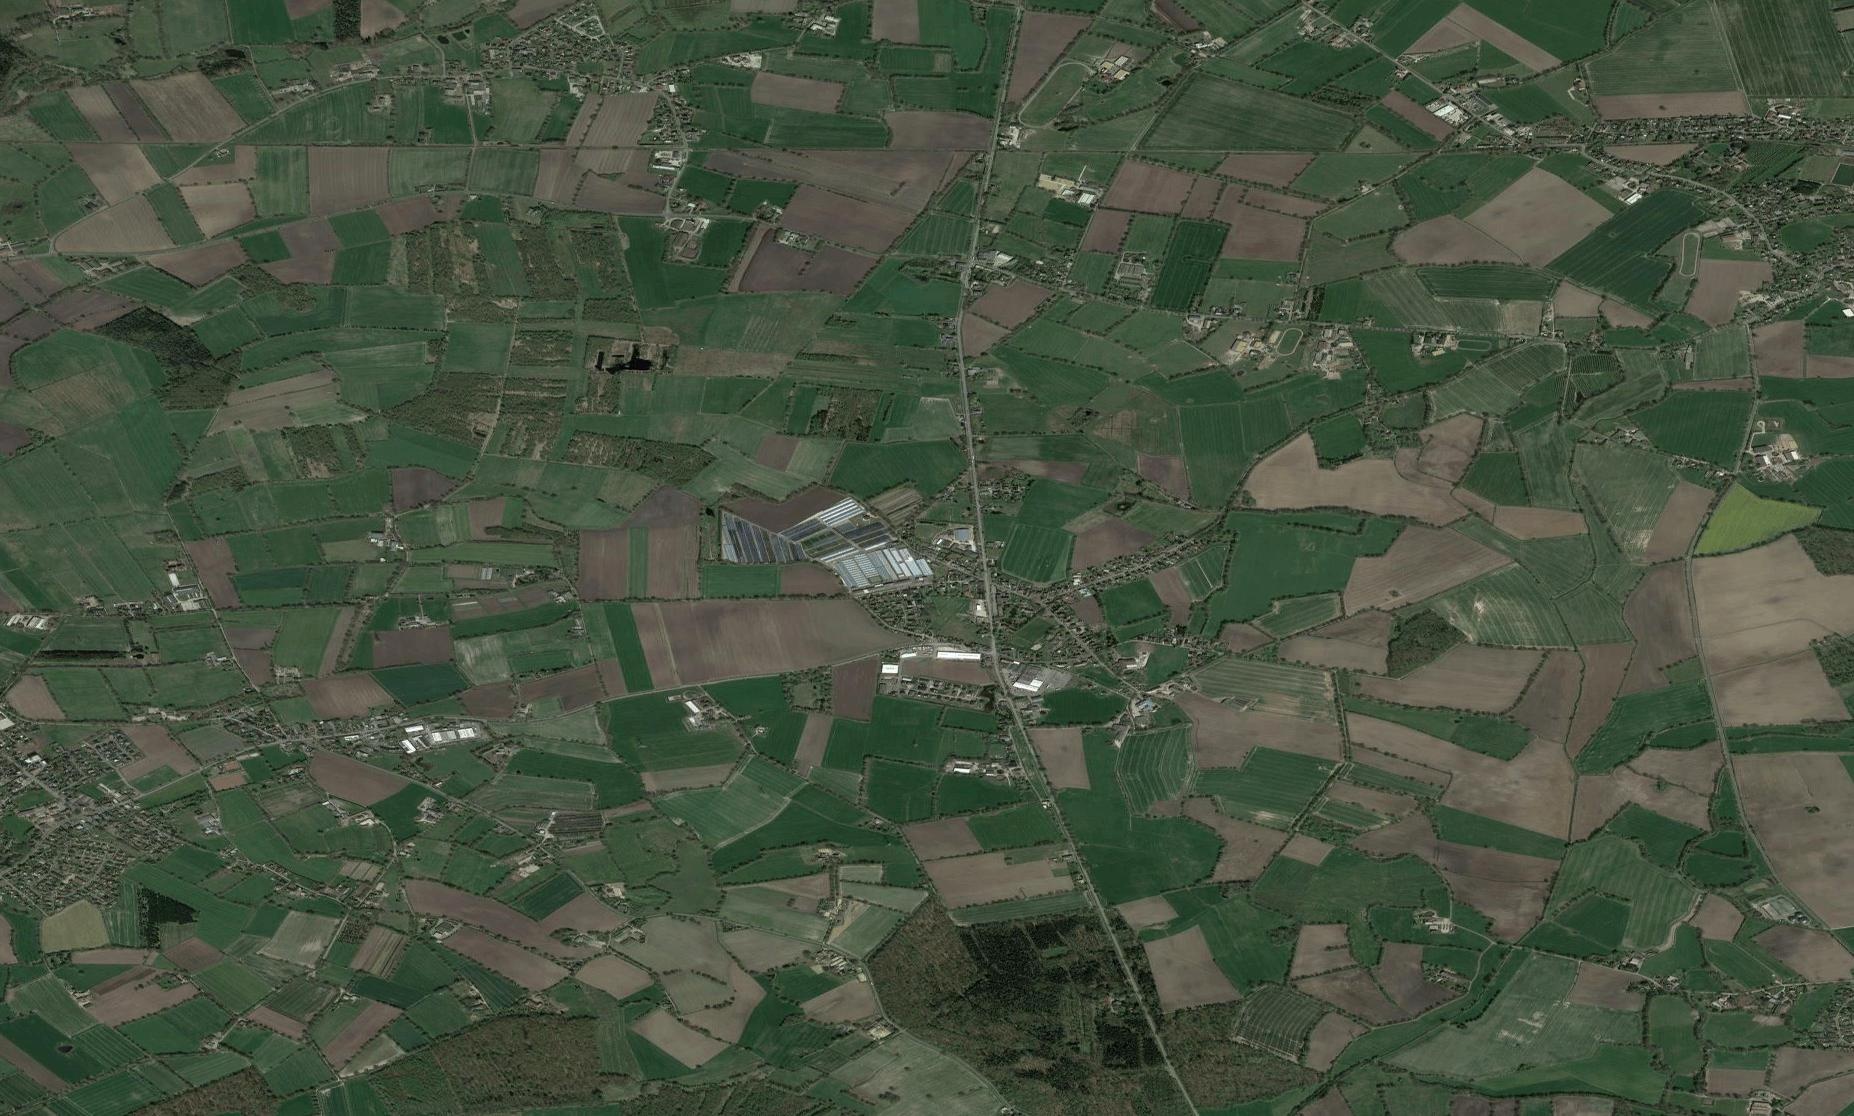industrial: (791, 492, 942, 606)
